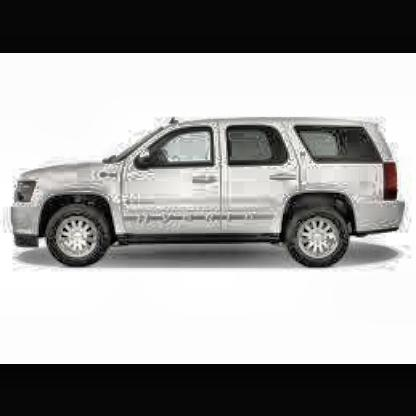Chevrolet Tahoe Hybrid SUV 2012: (11, 116, 414, 271)
